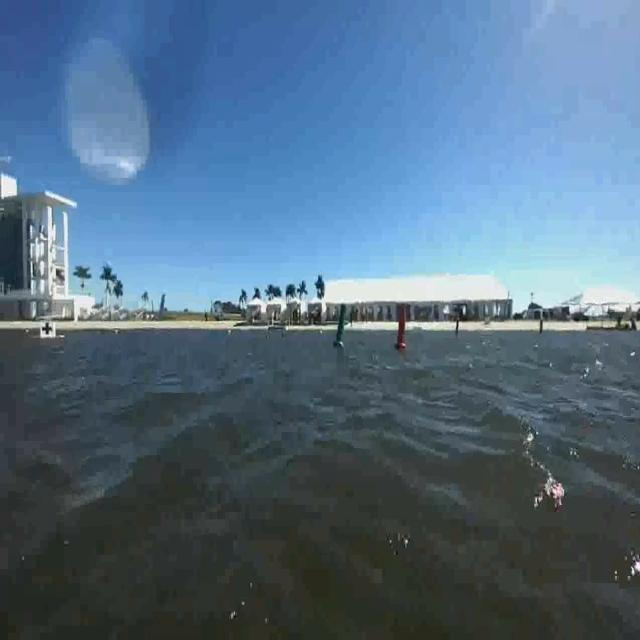green-column-buoy: (332, 300, 353, 360)
red-column-buoy: (393, 304, 408, 350)
